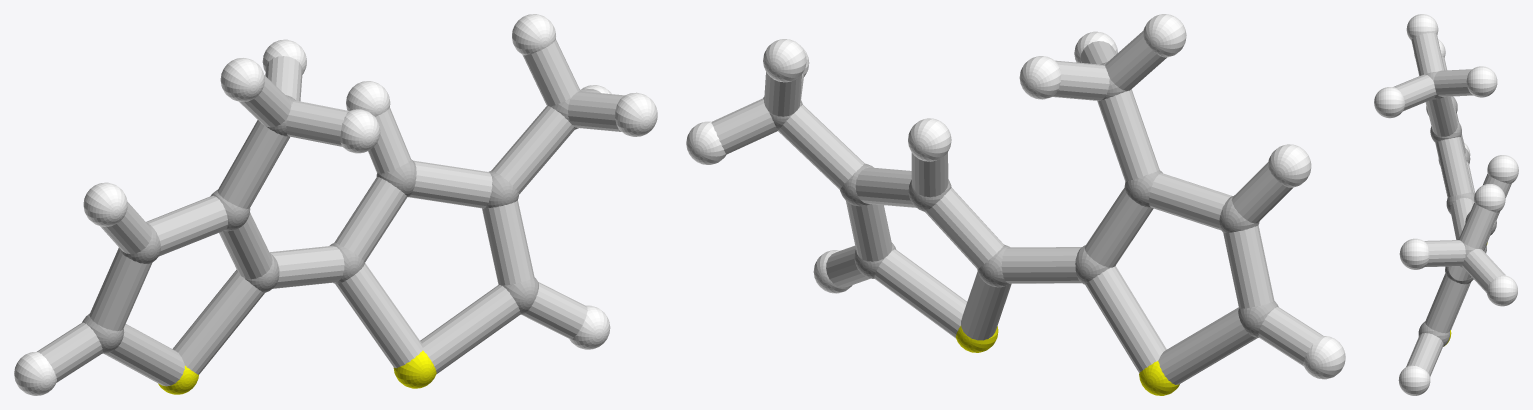
Rendered from Methylthiophene_Phi_20_Theta_150_Methylthiophene.glb.
3 renders of one model, left to right at view 1: azimuth 30°, elevation 25°; view 2: azimuth 150°, elevation 25°; view 3: azimuth 270°, elevation 25°, orthographic. The views are drawn at different scales.
Parts seen in each view (by area): view 1: grp7965, grp3621, grp1, grp7241; view 2: grp7965, grp3621, grp1, grp7241; view 3: grp7965, grp3621, grp1.
Boxes of the visible parts, x1,y1,x2,y2 form: grp7965: [37, 39, 624, 386]; grp3621: [14, 14, 657, 395]; grp1: [82, 90, 581, 353]; grp7241: [158, 350, 436, 394]; grp7965: [711, 30, 1323, 384]; grp3621: [686, 14, 1345, 379]; grp1: [763, 62, 1278, 337]; grp7241: [956, 326, 1179, 395]; grp7965: [1393, 33, 1511, 376]; grp3621: [1374, 14, 1518, 395]; grp1: [1418, 71, 1496, 346].
Bounding box in the file's own units: 9.83 × 5.63 × 2.75.
